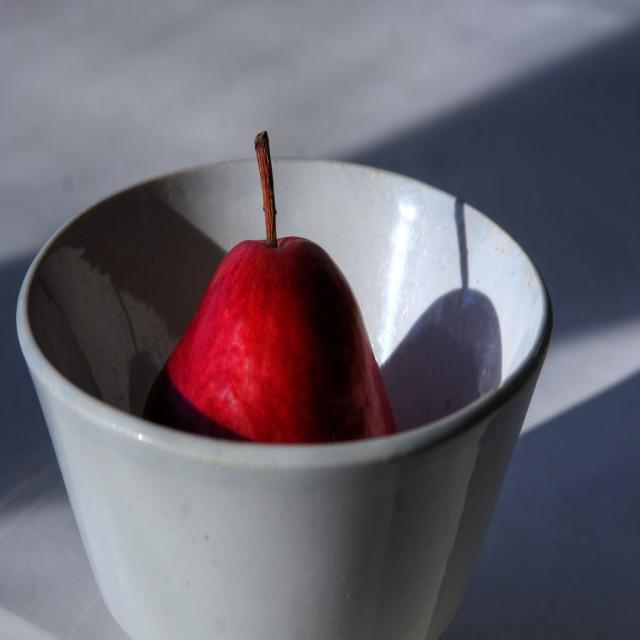pear: (142, 130, 396, 451)
